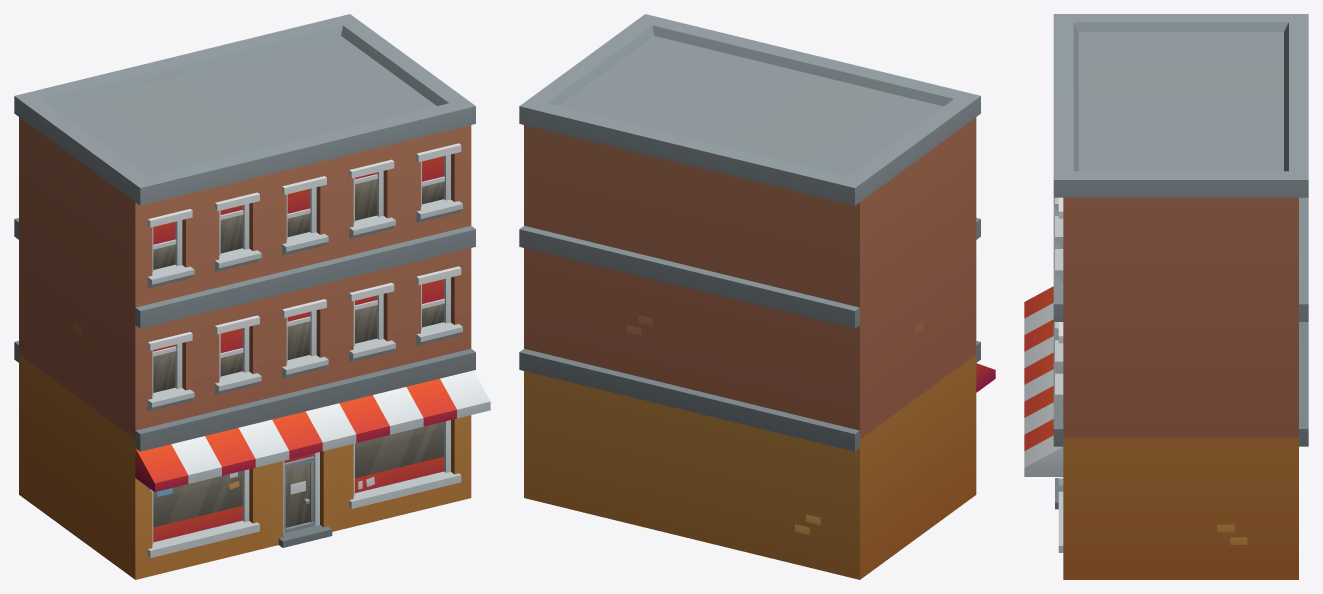
File: city-e.glb
3 views of the same model, side by side, from view 1: azimuth 30°, elevation 25°; view 2: azimuth 150°, elevation 25°; view 3: azimuth 270°, elevation 25° (orthographic).
Parts seen in each view (by area): view 1: building_E_withoutBase; view 2: building_E_withoutBase; view 3: building_E_withoutBase.
Part boxes in pixels (x1,y1,x2,y2): building_E_withoutBase: (14,14,490,579); building_E_withoutBase: (519,14,995,579); building_E_withoutBase: (1024,14,1308,579).
Bounding box in the file's own units: 2.01 × 2.25 × 1.45.
Materials: 1 (1 with a texture image).
